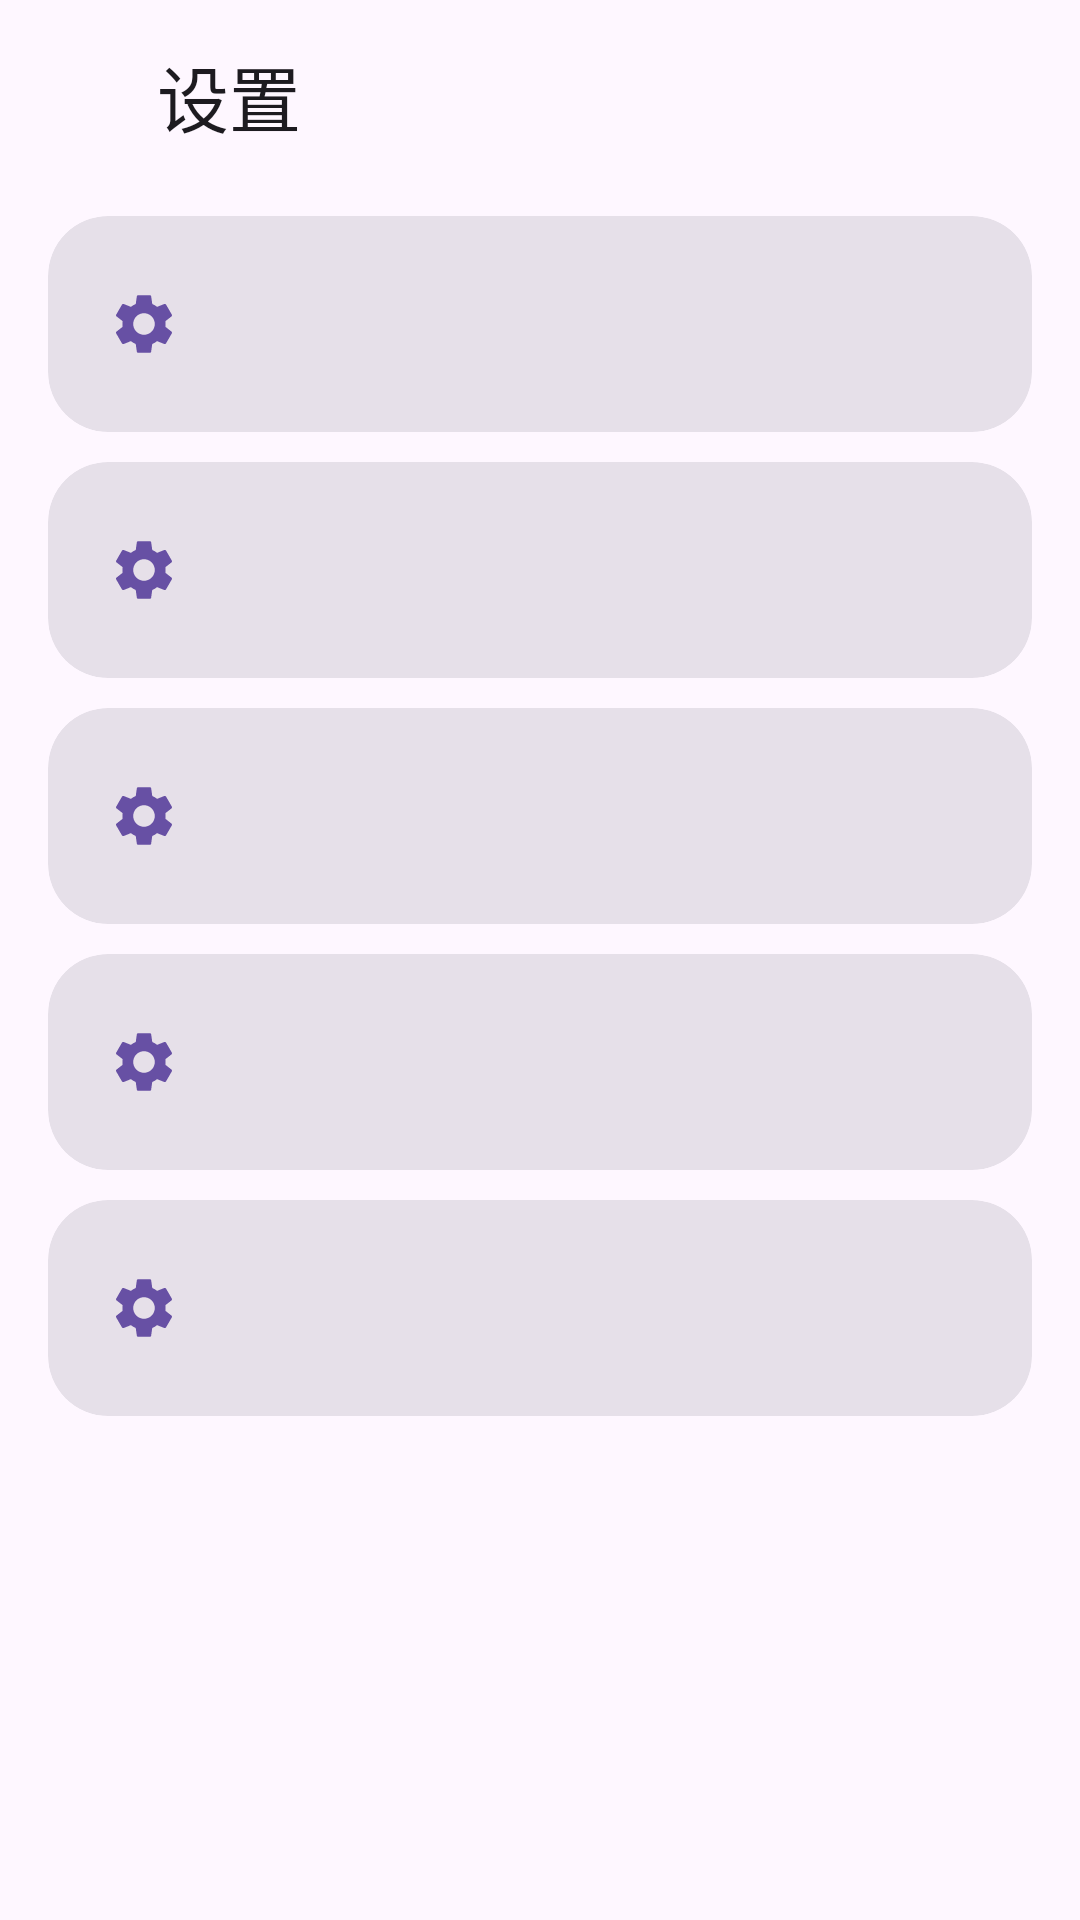

Icons on this 1080w x 1920h Android screen, each with its box as Rect(x1, y1, x2, y2):
settings: Rect(116, 295, 172, 353), Rect(116, 541, 172, 599), Rect(116, 787, 172, 845), Rect(116, 1033, 172, 1091), Rect(116, 1279, 172, 1337)
